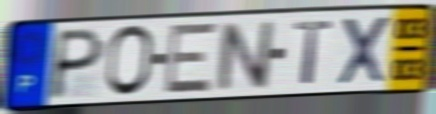E: (162, 20, 220, 97)
N: (215, 18, 275, 93)
O: (103, 22, 156, 99)
P: (45, 25, 108, 102)
T: (292, 18, 334, 87)
X: (336, 13, 393, 88)
